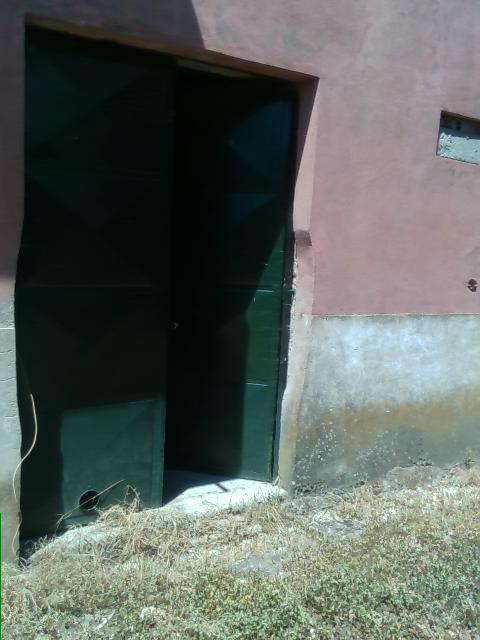semi_door: (16, 16, 318, 562)
